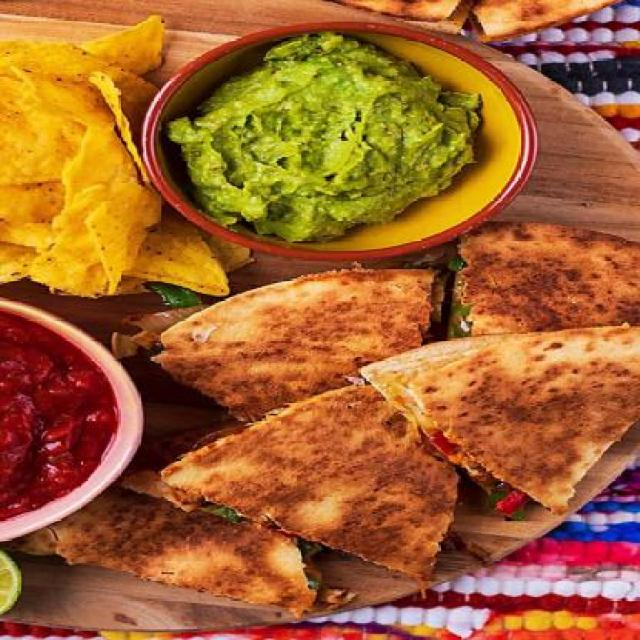chicken quesadilla: (12, 216, 639, 619)
guacamole: (174, 27, 488, 247)
